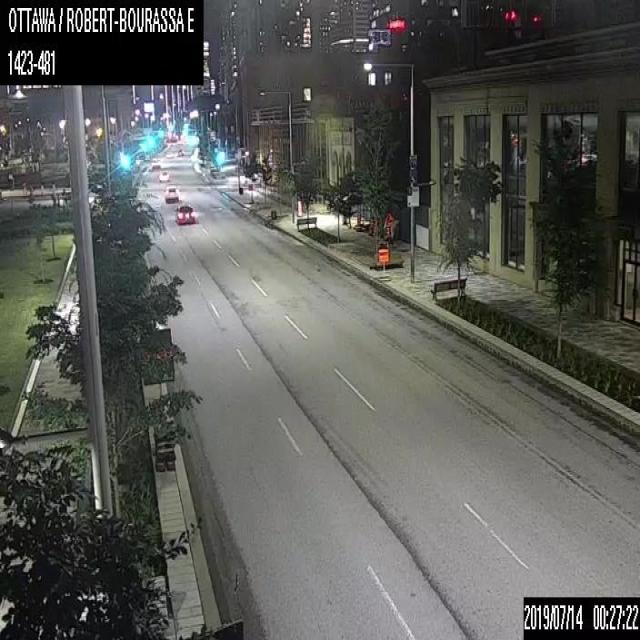construction: (140, 327, 174, 469), (376, 247, 388, 280), (382, 215, 394, 241), (370, 214, 378, 234), (355, 209, 361, 228), (296, 198, 302, 214)
vehicle: (176, 202, 194, 222), (165, 186, 178, 202), (159, 170, 168, 182), (151, 156, 159, 168), (177, 148, 183, 155), (166, 151, 170, 157)
